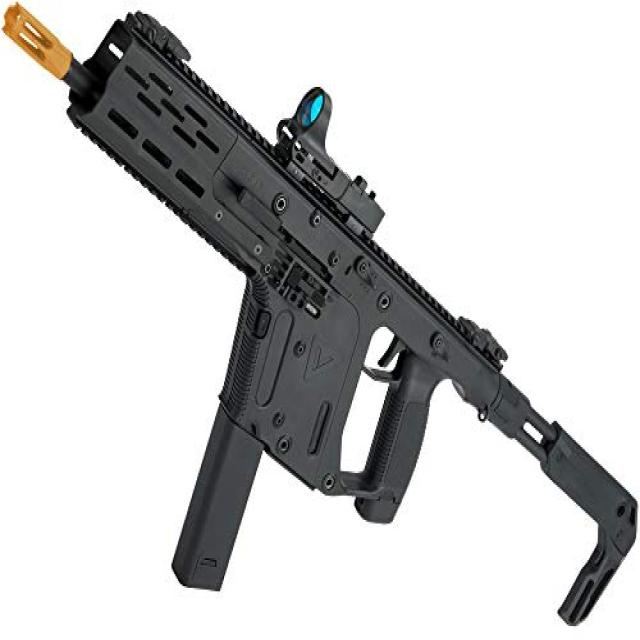SMG: (4, 5, 639, 630)
